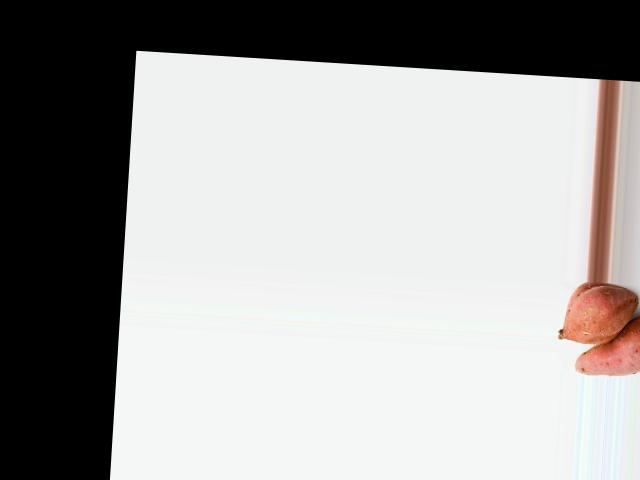sweet_potato: (557, 288, 634, 341)
